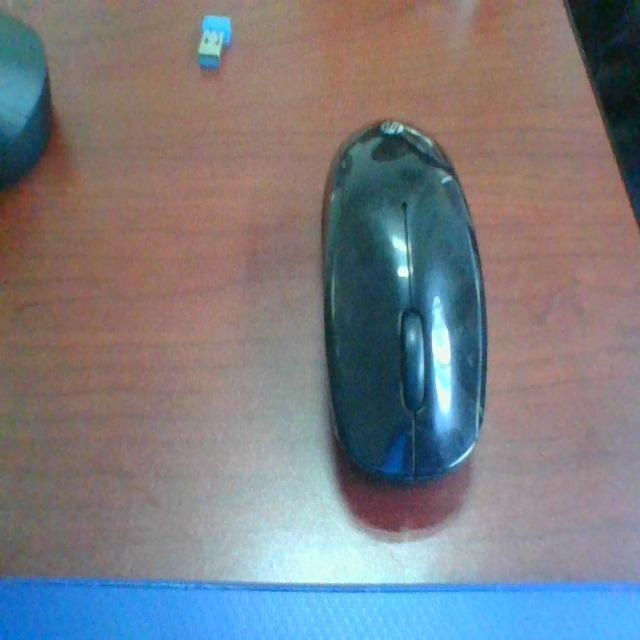Mouse: (316, 121, 516, 492)
